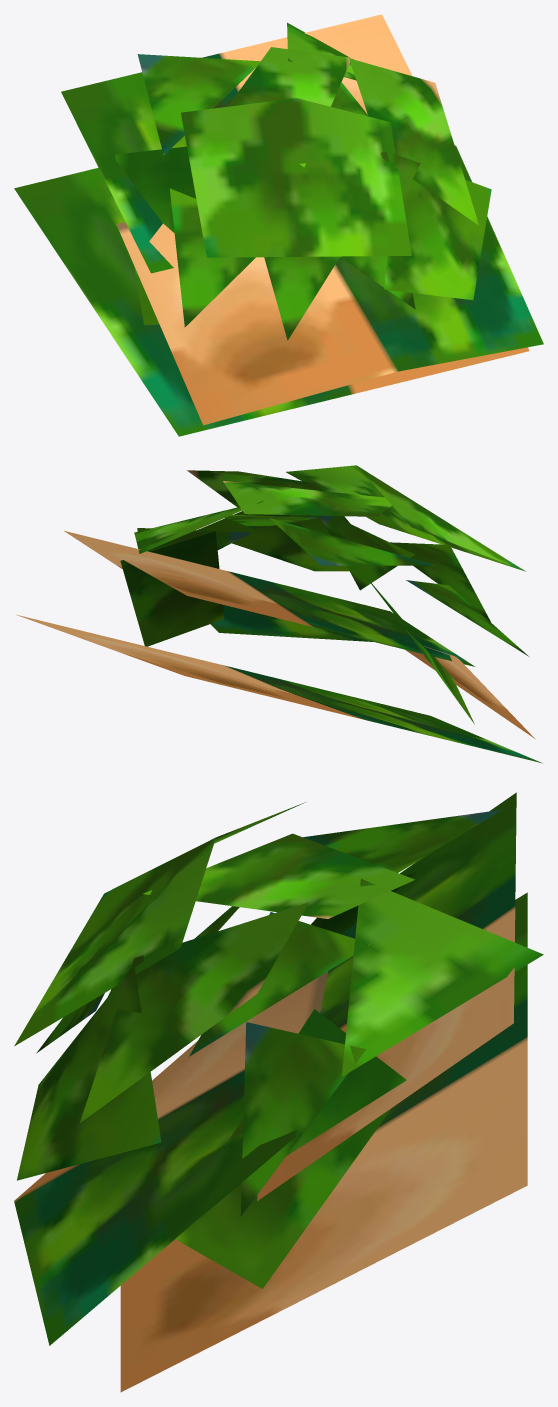
File: fg_bushD_2_re.dae
The picture shows the model from 3 angles, top to bottom: view 1: azimuth 30°, elevation 25°; view 2: azimuth 150°, elevation 25°; view 3: azimuth 270°, elevation 25°; orthographic projection. The views are drawn at different scales.
Visible parts, largest first — view 1: fg_bushD_2_re; view 2: fg_bushD_2_re; view 3: fg_bushD_2_re.
Part boxes in pixels (box(x1,y1,x2,y2)): fg_bushD_2_re: box(14, 14, 543, 436); fg_bushD_2_re: box(16, 465, 542, 763); fg_bushD_2_re: box(14, 792, 543, 1392).
Bounding box in the file's own units: 47.83 × 31.26 × 36.53.
1 material, 1 textured.
